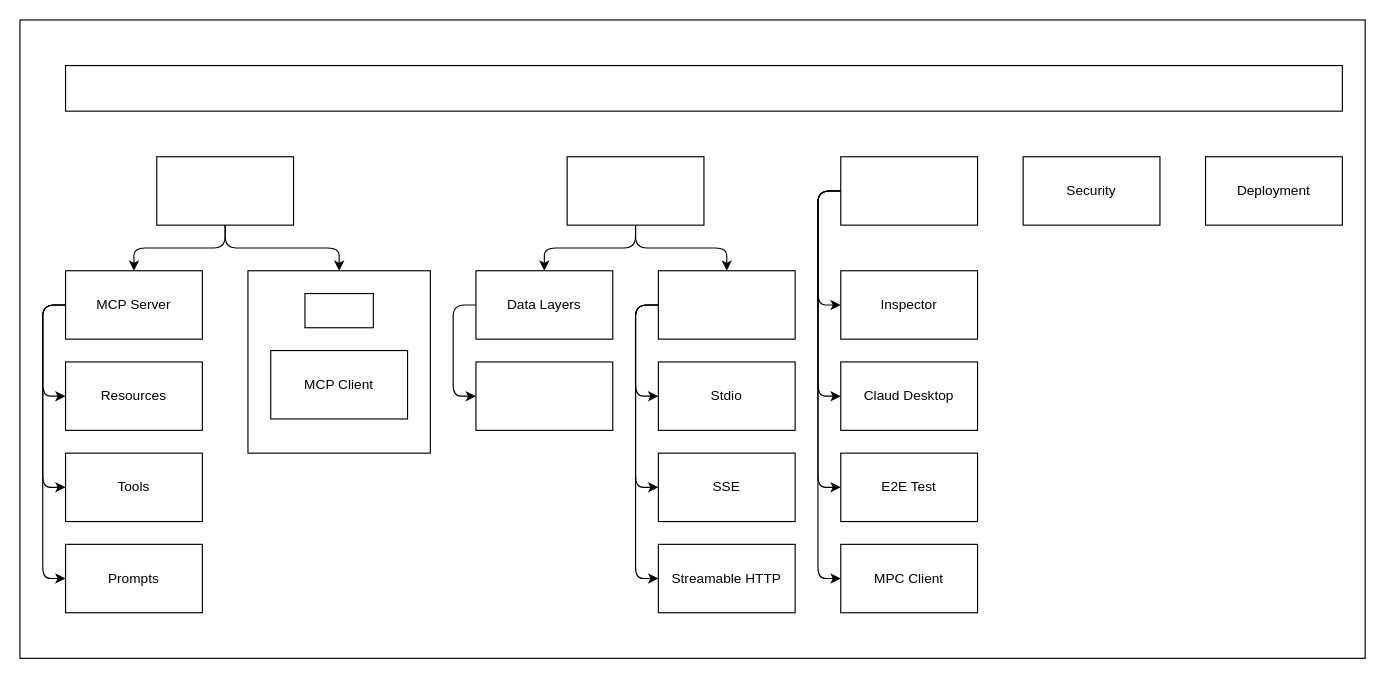
Image size: 1385x678. Some labels were removed from this diagram. The shapes that lost their labels are listed below. From the top down, each one's centre as x and y in pixels, then its label:
the point at 703,87: MPC Core Concepts
the point at 225,190: Participants
the point at 635,190: Layers
the point at 909,190: Testing
the point at 338,310: MCP Host
the point at 726,304: Transport Layers
the point at 544,395: JSON-RPC
